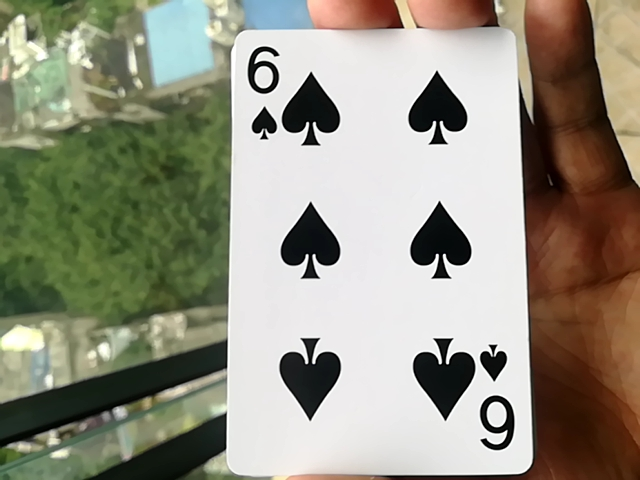ht 6: (208, 11, 538, 480)
